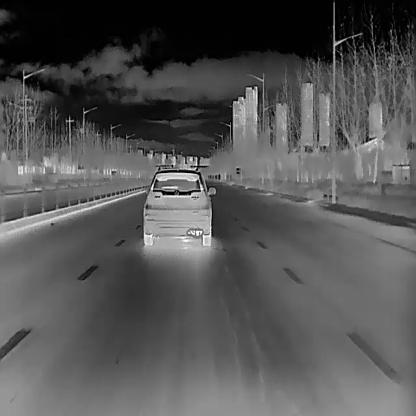car: (143, 168, 215, 245)
